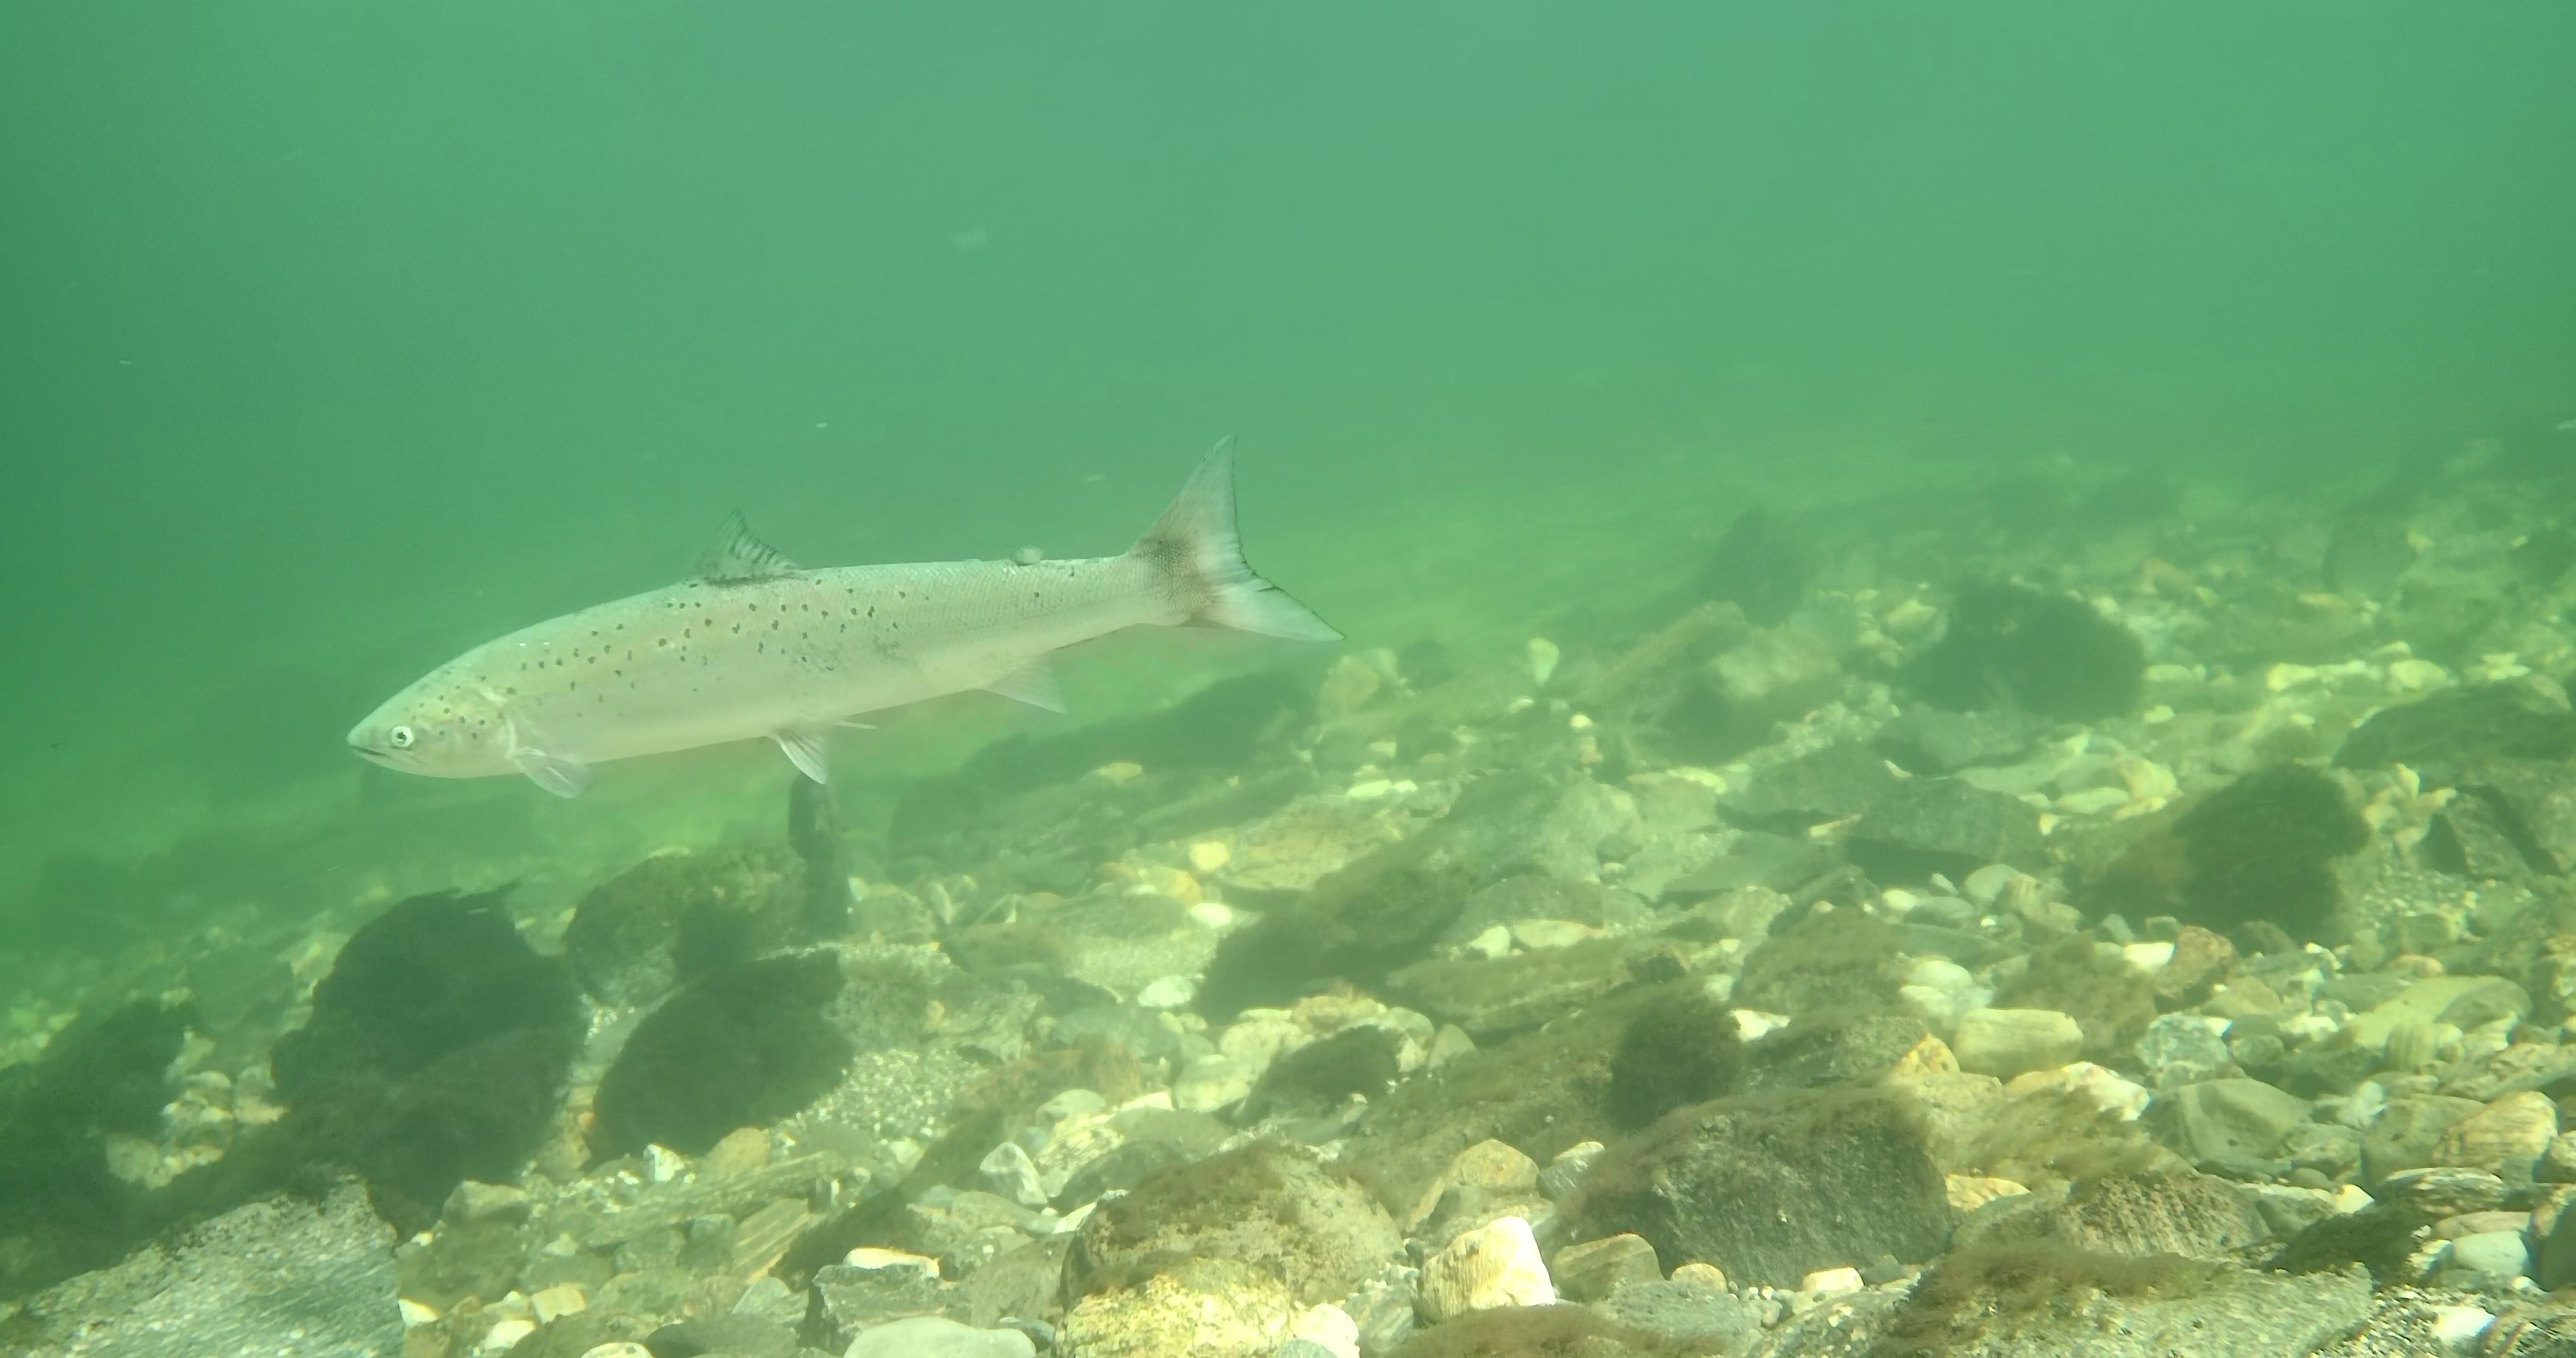salmon: (344, 428, 1348, 803)
